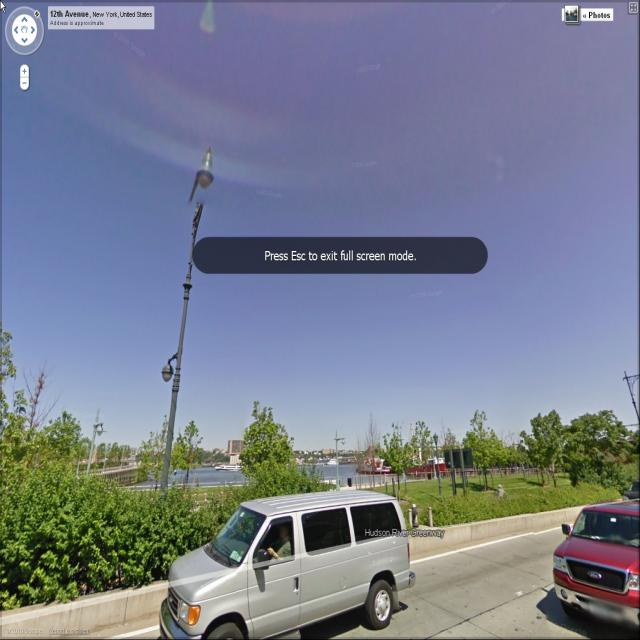b_1: (224, 437, 247, 461)
